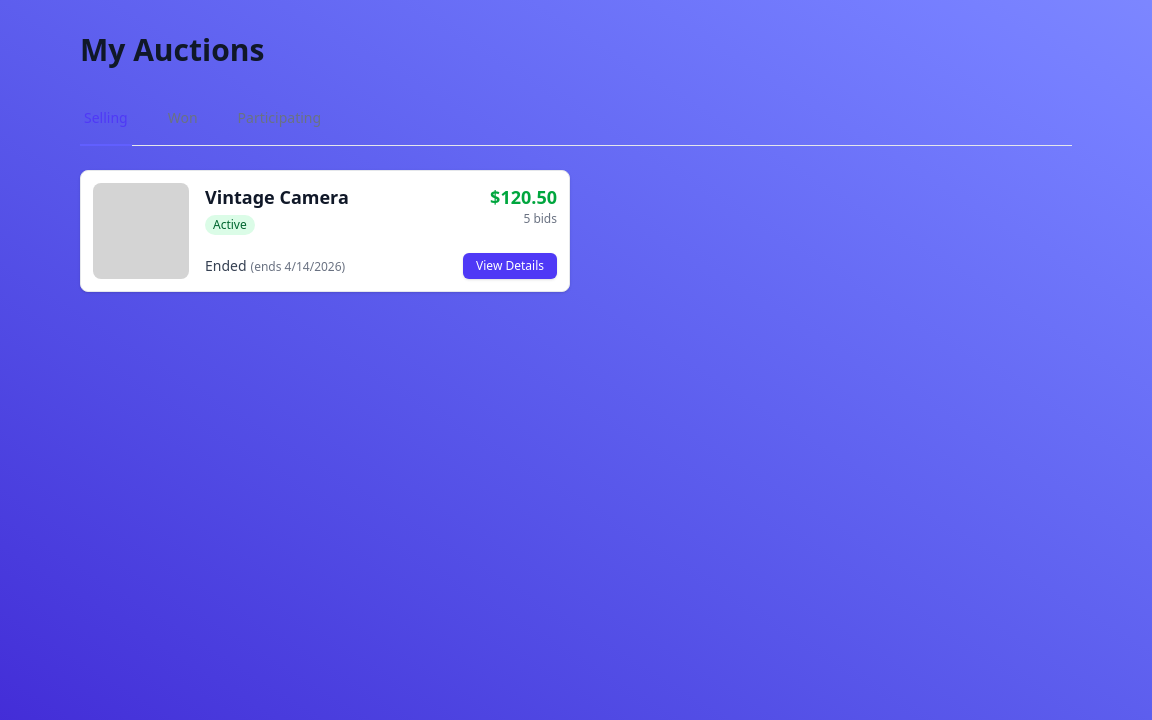
Test: UserAuctions Component › shows empty state for won auctions without create button
Click the button "Won". click: (183, 119)
box: [164,92,202,146]
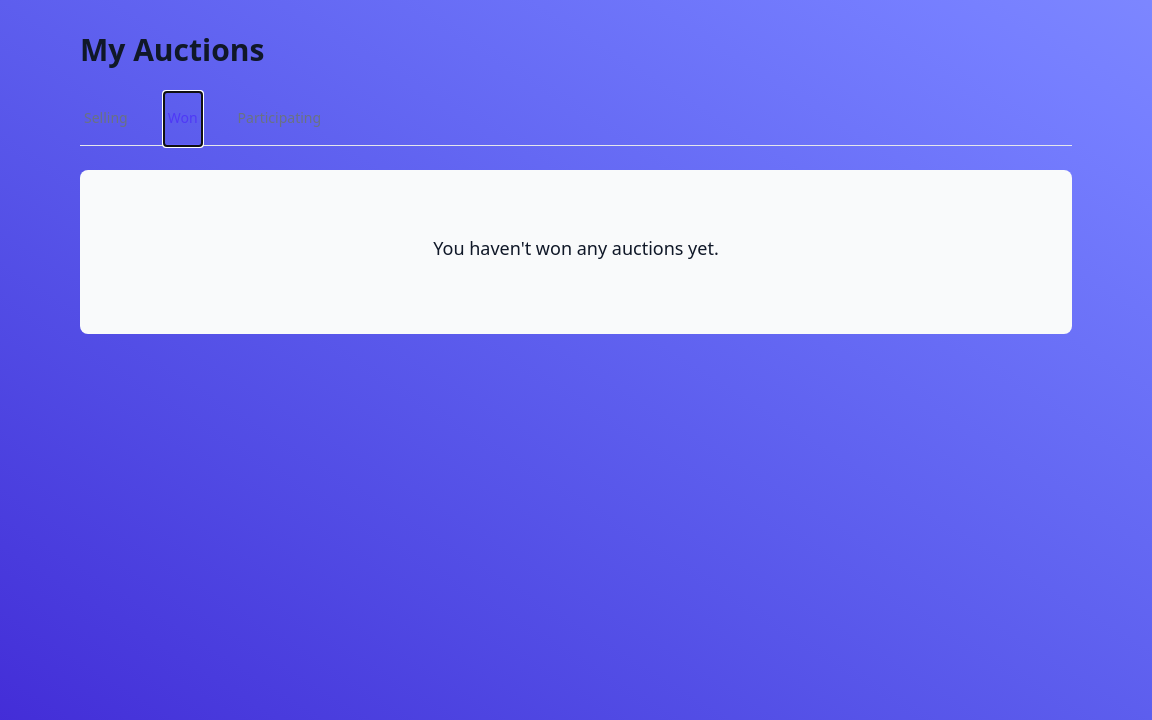
Result: the heading "You haven't won any auctions yet." is shown at [433,236,719,260]
